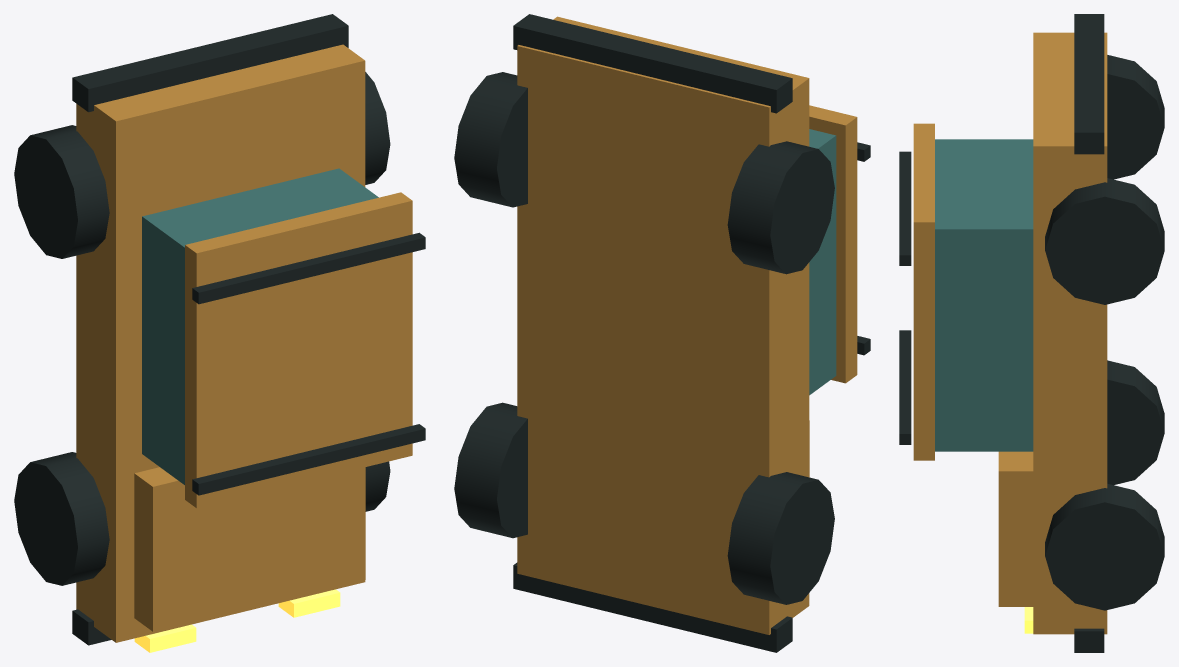
File: expedition-vehicle.glb
3 views of the same model, side by side, from view 1: azimuth 30°, elevation 25°; view 2: azimuth 150°, elevation 25°; view 3: azimuth 270°, elevation 25° (orthographic). The views are drawn at different scales.
Parts seen in each view (by area): view 1: chasis, techo, capo, cabina, rueda--1.22--1.4, rueda--1.22-1.42, parachoques-trasero, barra-portaequipaje (×2), rueda-1.22-1.42, faro-izquierdo, faro-derecho, rueda-1.22--1.4 (+1 smaller); view 2: chasis, rueda--1.22--1.4, rueda--1.22-1.42, parachoques-trasero, rueda-1.22-1.42, rueda-1.22--1.4, techo, cabina, parachoques-frontal; view 3: cabina, chasis, rueda-1.22-1.42, rueda-1.22--1.4, techo, rueda--1.22--1.4, rueda--1.22-1.42, capo, parachoques-trasero, barra-portaequipaje (×2), parachoques-frontal.
Part boxes in pixels (<box>): chasis: <box>76,44,365,642</box>; techo: <box>185,192,412,508</box>; capo: <box>134,467,365,631</box>; cabina: <box>142,168,378,484</box>; rueda--1.22--1.4: <box>14,452,109,585</box>; rueda--1.22-1.42: <box>14,125,109,258</box>; parachoques-trasero: <box>72,14,348,112</box>; barra-portaequipaje (×2): <box>192,232,425,495</box>; rueda-1.22-1.42: <box>365,72,390,184</box>; faro-izquierdo: <box>134,624,196,652</box>; faro-derecho: <box>278,589,340,617</box>; rueda-1.22--1.4: <box>365,461,390,511</box>; chasis: <box>517,16,809,634</box>; rueda--1.22--1.4: <box>727,472,834,604</box>; rueda--1.22-1.42: <box>727,141,834,274</box>; parachoques-trasero: <box>513,14,792,113</box>; rueda-1.22-1.42: <box>454,72,527,207</box>; rueda-1.22--1.4: <box>454,402,527,538</box>; techo: <box>809,105,857,383</box>; cabina: <box>809,129,836,395</box>; parachoques-frontal: <box>513,562,792,652</box>; cabina: <box>935,139,1033,451</box>; chasis: <box>1033,32,1107,634</box>; rueda-1.22-1.42: <box>1045,178,1164,304</box>; rueda-1.22--1.4: <box>1045,483,1164,610</box>; techo: <box>913,123,934,460</box>; rueda--1.22--1.4: <box>1107,360,1164,485</box>; rueda--1.22-1.42: <box>1107,55,1164,179</box>; capo: <box>998,451,1033,606</box>; parachoques-trasero: <box>1074,14,1104,154</box>; barra-portaequipaje (×2): <box>899,151,911,444</box>; parachoques-frontal: <box>1074,628,1104,652</box>.
Bounding box in the file's own units: 2.82 × 4.8 × 2.22.
